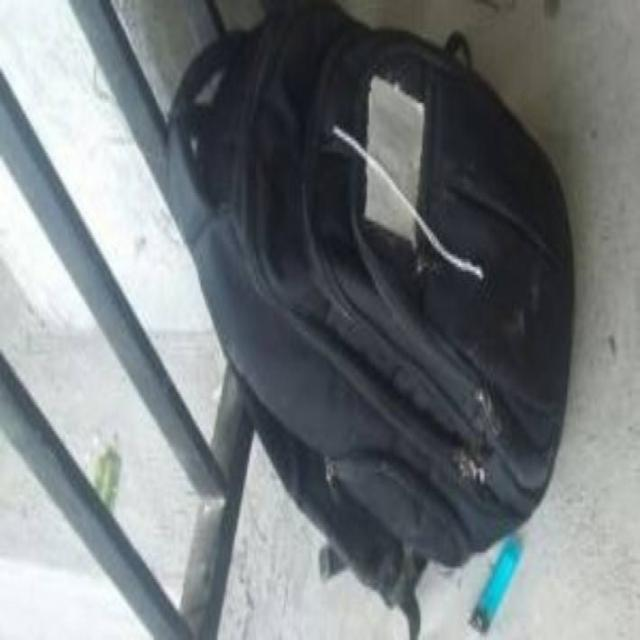Backpacks: (160, 0, 574, 563)
